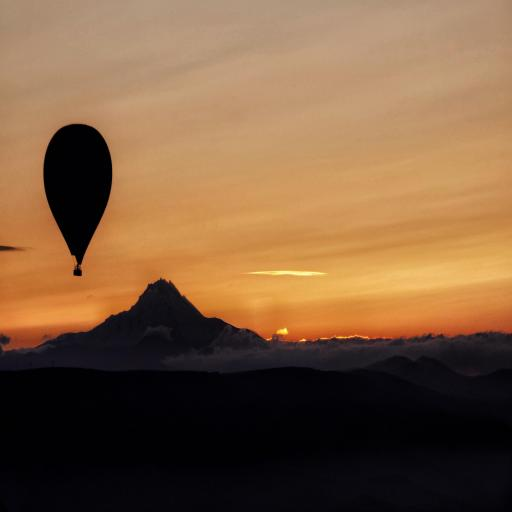hot air ballon: (42, 123, 114, 283)
